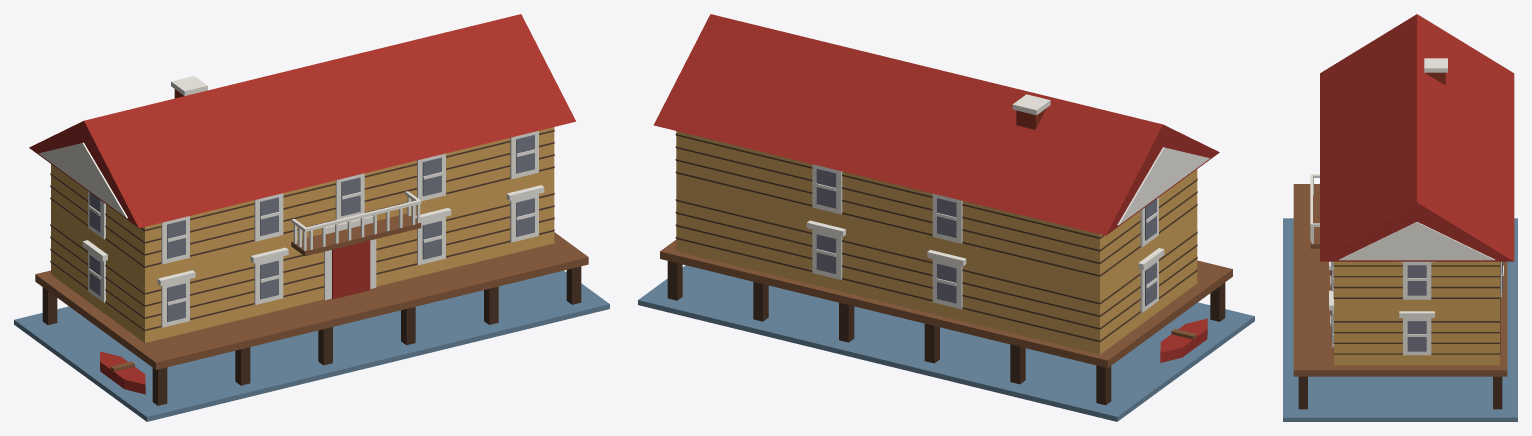
File: house-2x1-2f-third-palafito-a.glb
3 views of the same model, side by side, from view 1: azimuth 30°, elevation 25°; view 2: azimuth 150°, elevation 25°; view 3: azimuth 270°, elevation 25° (orthographic). The views are drawn at different scales.
Parts seen in each view (by area): view 1: house-2x1-2f-third-palafito-a; view 2: house-2x1-2f-third-palafito-a; view 3: house-2x1-2f-third-palafito-a.
Part boxes in pixels (x1,y1,x2,y2): house-2x1-2f-third-palafito-a: [14, 14, 609, 421]; house-2x1-2f-third-palafito-a: [638, 14, 1254, 421]; house-2x1-2f-third-palafito-a: [1283, 14, 1517, 421].
Bounding box in the file's own units: 1.99 × 1 × 0.99.
1 material, 1 textured.
